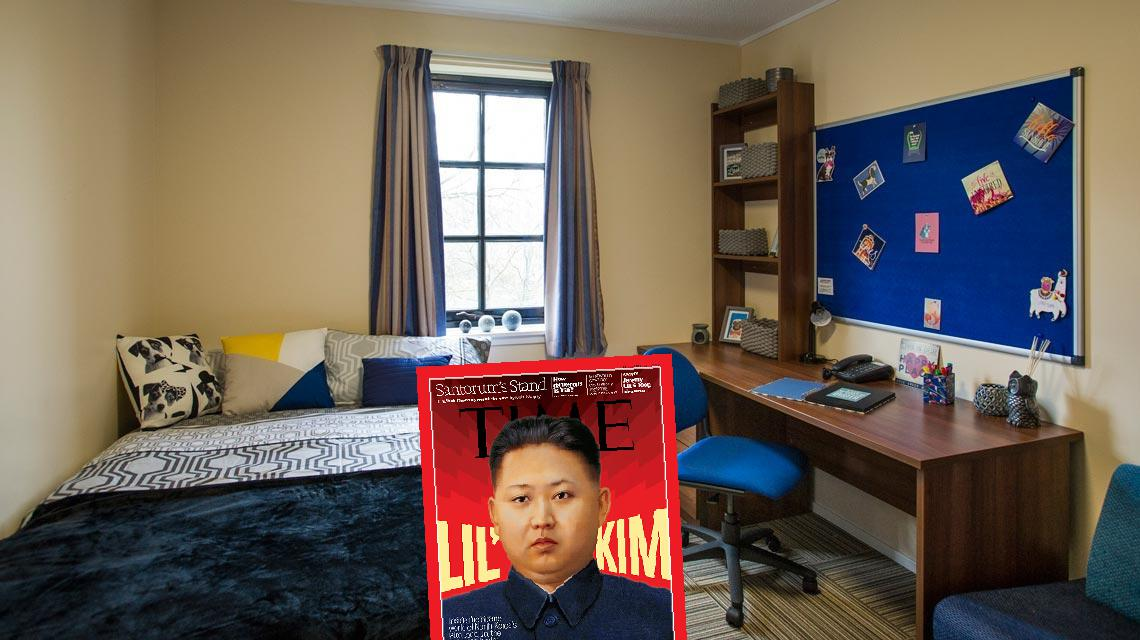times: (415, 350, 685, 634)
